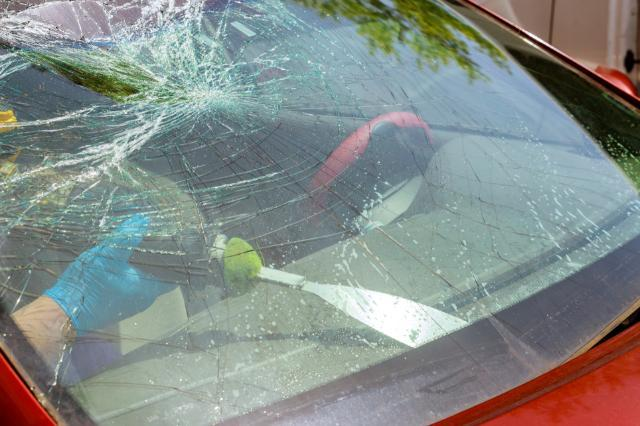Windshield: (0, 0, 616, 421)
